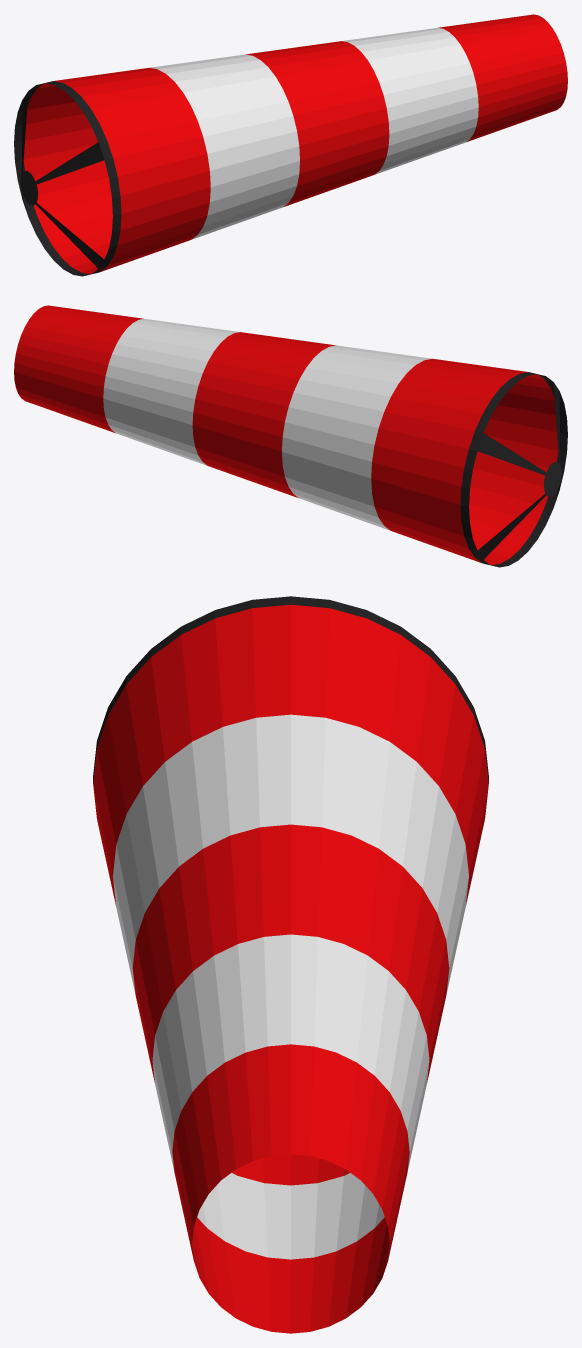
File: Sleeve.fbx
3 renders of one model, top to bottom at view 1: azimuth 30°, elevation 25°; view 2: azimuth 150°, elevation 25°; view 3: azimuth 270°, elevation 25°, orthographic. The views are drawn at different scales.
Visible parts, largest first — view 1: Sleeve; view 2: Sleeve; view 3: Sleeve.
Boxes of the visible parts, x1,y1,x2,y2 form: Sleeve: (14, 14, 567, 276); Sleeve: (14, 305, 567, 567); Sleeve: (93, 596, 488, 1333).
Bounding box in the file's own units: 120 × 40 × 40.
